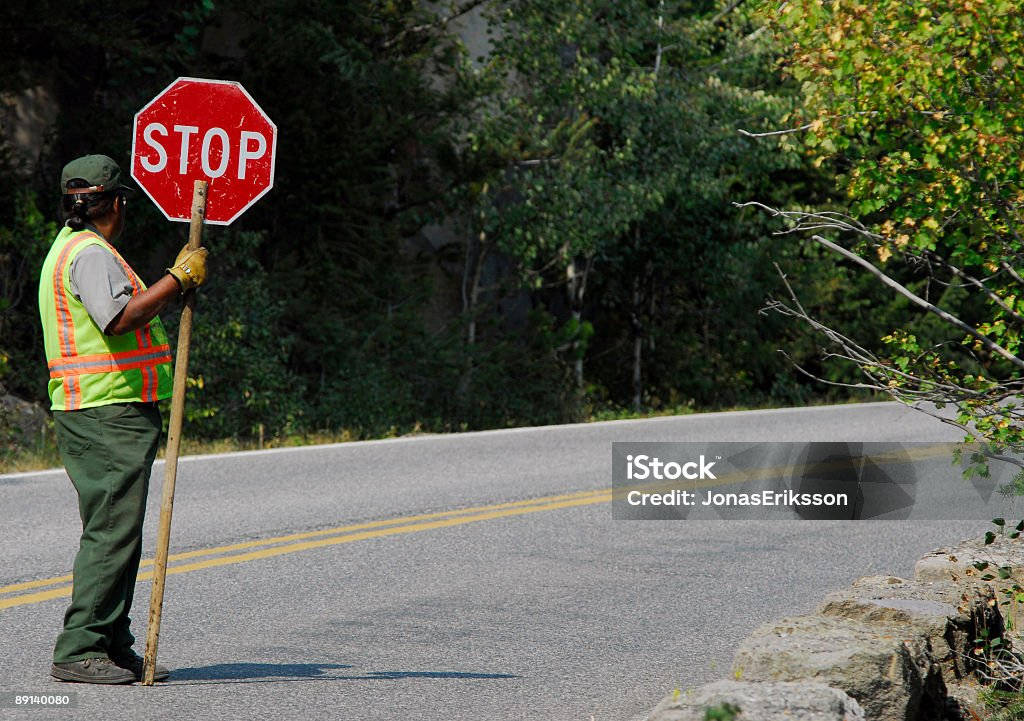StopSign: (130, 76, 276, 226)
